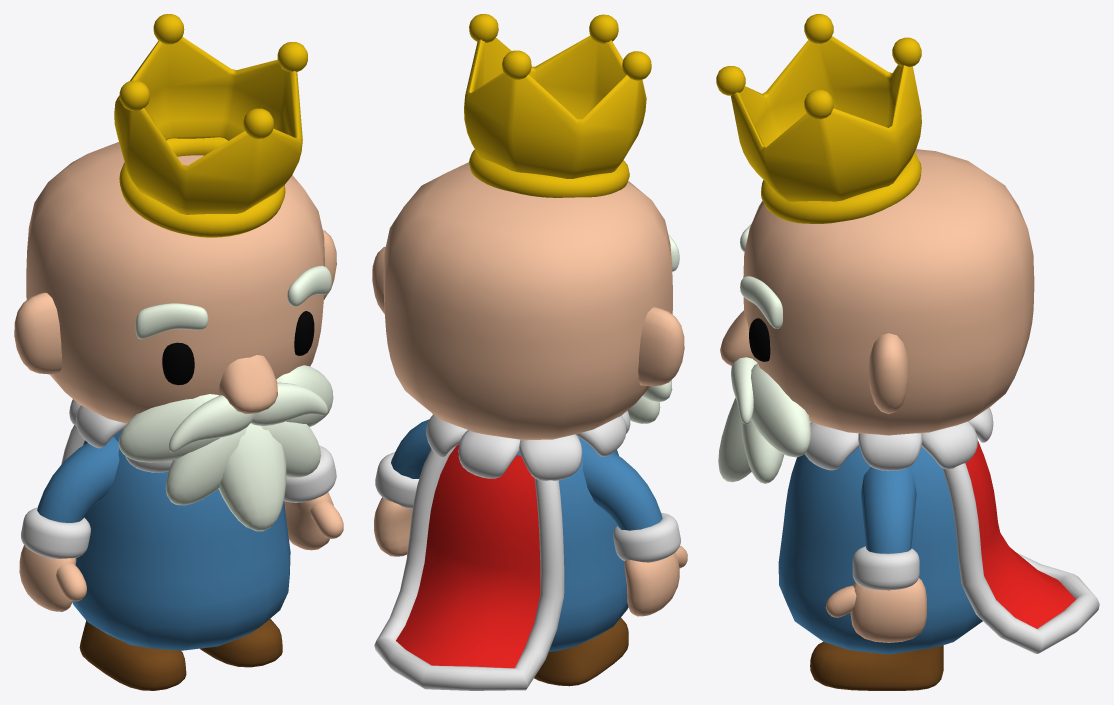
Rendered from Kingfinal.fbx.
3 views of the same model, side by side, from view 1: azimuth 30°, elevation 25°; view 2: azimuth 150°, elevation 25°; view 3: azimuth 270°, elevation 25° (orthographic). The views are drawn at different scales.
Parts seen in each view (by area): view 1: King_Head, King_Body, King_Right_Arm, King_Right_Foot, King_Left_Arm, King_Left_Foot; view 2: King_Head, King_Body, King_Right_Arm, King_Left_Arm, King_Right_Foot; view 3: King_Head, King_Body, King_Left_Arm, King_Left_Foot.
Part boxes in pixels (x1,y1,x2,y2): King_Head: [14, 14, 336, 531]; King_Body: [61, 399, 290, 650]; King_Right_Arm: [19, 436, 119, 611]; King_Right_Foot: [79, 620, 186, 690]; King_Left_Arm: [284, 445, 343, 550]; King_Left_Foot: [200, 618, 282, 667]; King_Head: [372, 14, 684, 440]; King_Body: [374, 410, 630, 690]; King_Right_Arm: [582, 445, 687, 616]; King_Left_Arm: [374, 419, 431, 556]; King_Right_Foot: [534, 618, 628, 686]; King_Head: [716, 14, 1034, 483]; King_Body: [778, 407, 1099, 654]; King_Left_Arm: [825, 467, 926, 642]; King_Left_Foot: [810, 641, 943, 690].
Bounding box in the file's own units: 179 × 340 × 191.
